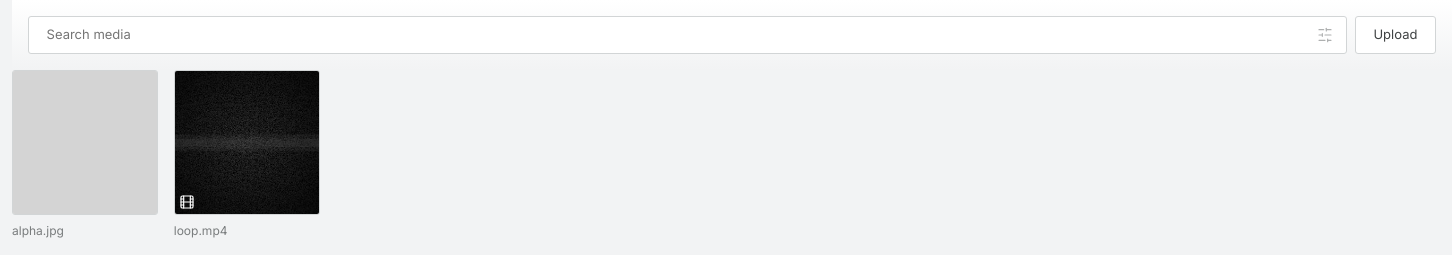
Scenario: MediaLibrary video support › filters the grid to one kind, and back to all
The width and height of the screenshot is (1452, 255).
Expected: the text "alpha.jpg" is shown, [12, 223, 64, 238]
Click the button named "Filter media by type": [1325, 35] box [1313, 23, 1337, 47]
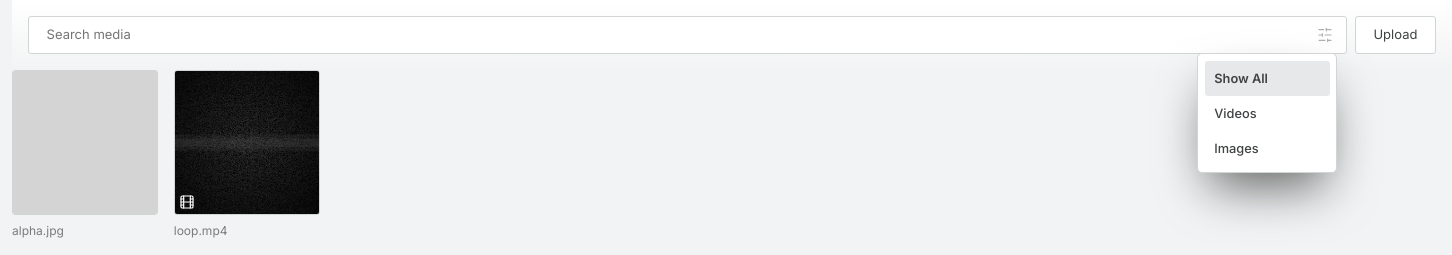
Click the menu item "Videos": [1267, 113] box [1205, 96, 1330, 131]
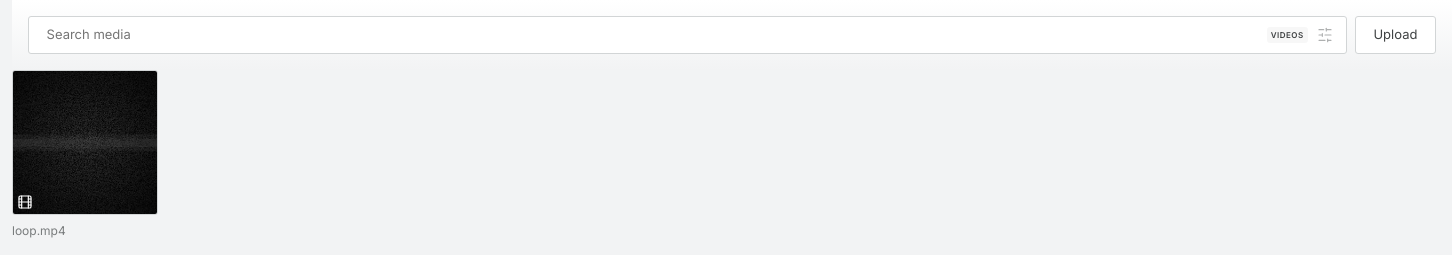
Expected: the text "loop.mp4" is shown, [12, 223, 66, 238]
Now the text "alpha.jpg" is gone
Click the button named "Filter media by type": [1325, 35] box [1313, 23, 1337, 47]
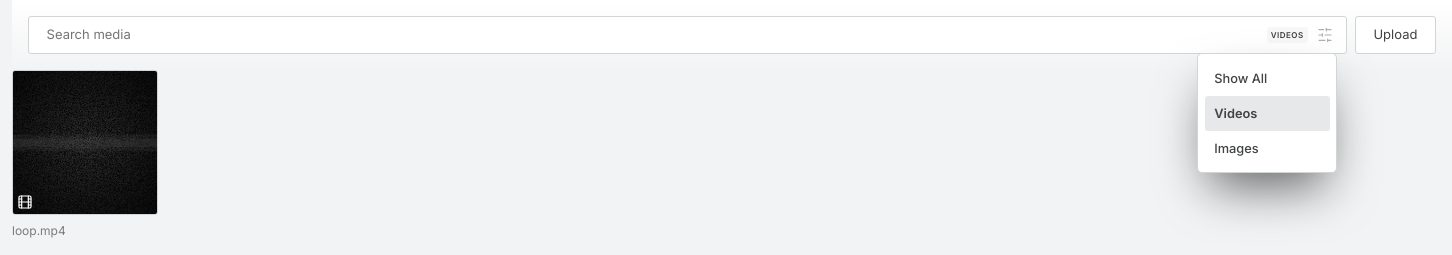
Click the menu item "Images": [1267, 148] box [1205, 131, 1330, 166]
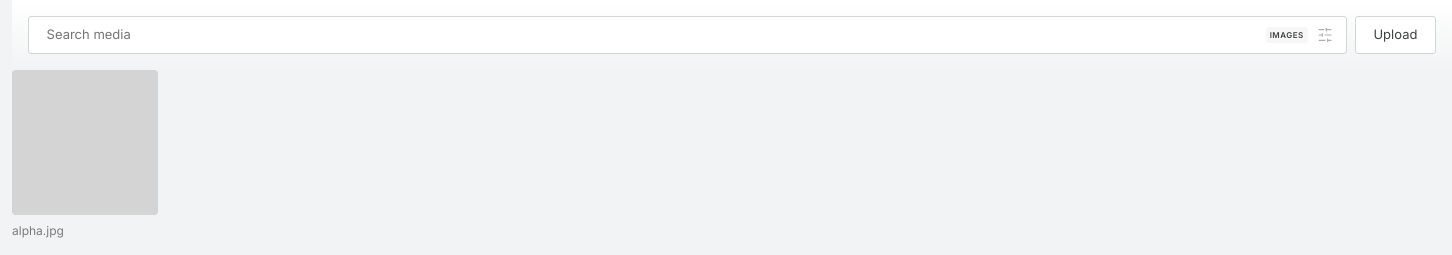
Now the text "alpha.jpg" is shown, box [12, 223, 64, 238]
Now the text "loop.mp4" is gone
Click the button named "Filter media by type": [1325, 35] box [1313, 23, 1337, 47]
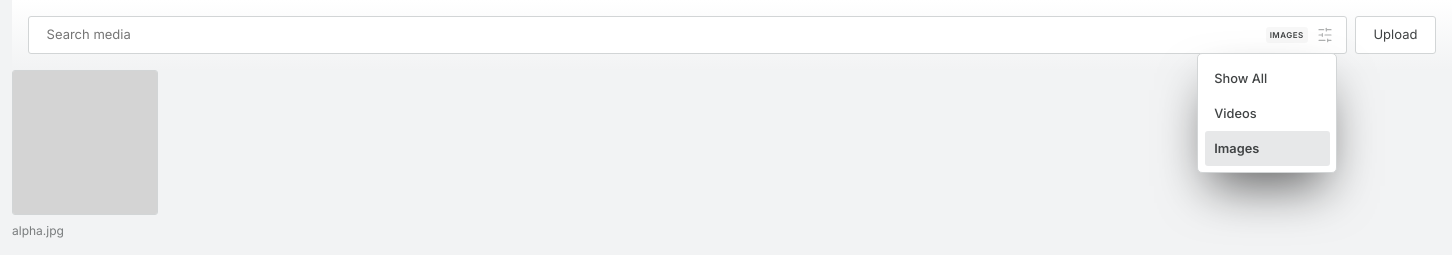
Click the menu item "Show All": [1267, 78] box [1205, 60, 1330, 96]
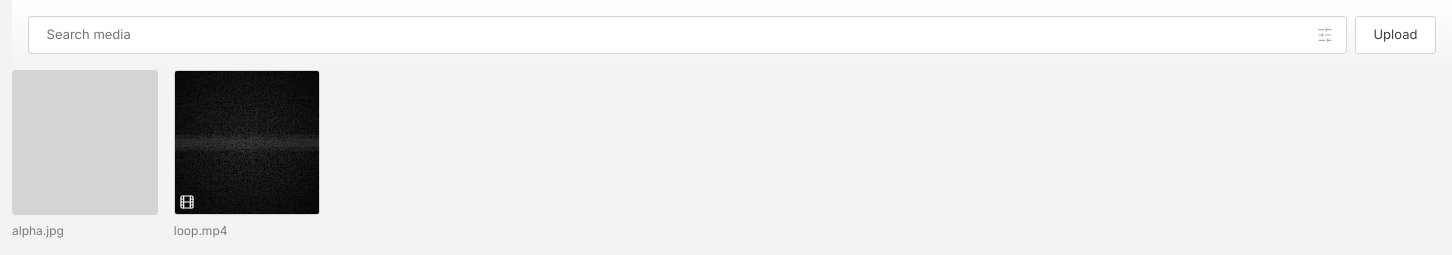
Now the text "alpha.jpg" is shown, box [12, 223, 64, 238]
Now the text "loop.mp4" is shown, box [174, 223, 228, 238]
